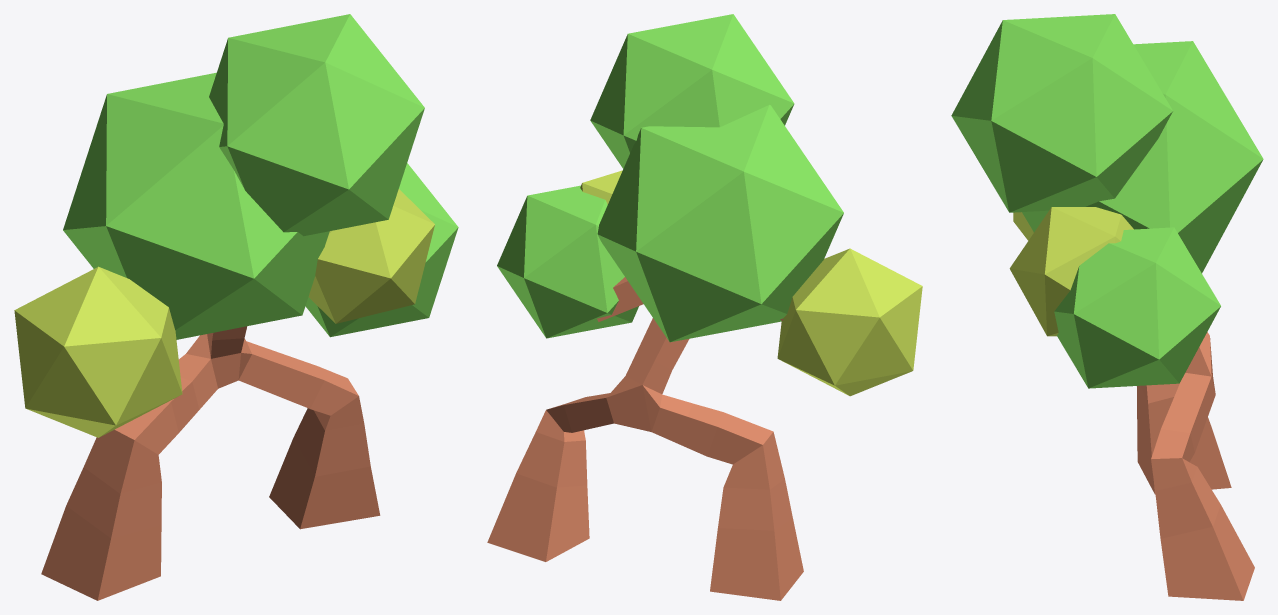
Rendered from Tree 12.fbx.
3 renders of one model, left to right at view 1: azimuth 30°, elevation 25°; view 2: azimuth 150°, elevation 25°; view 3: azimuth 270°, elevation 25°, orthographic. The views are drawn at different scales.
Visible parts, largest first — view 1: Tree 12; view 2: Tree 12; view 3: Tree 12.
Boxes of the visible parts, x1,y1,x2,y2 form: Tree 12: (14, 14, 458, 600); Tree 12: (487, 14, 922, 600); Tree 12: (951, 14, 1263, 600).
Size of the model in its own units: 392 by 469 by 259.
